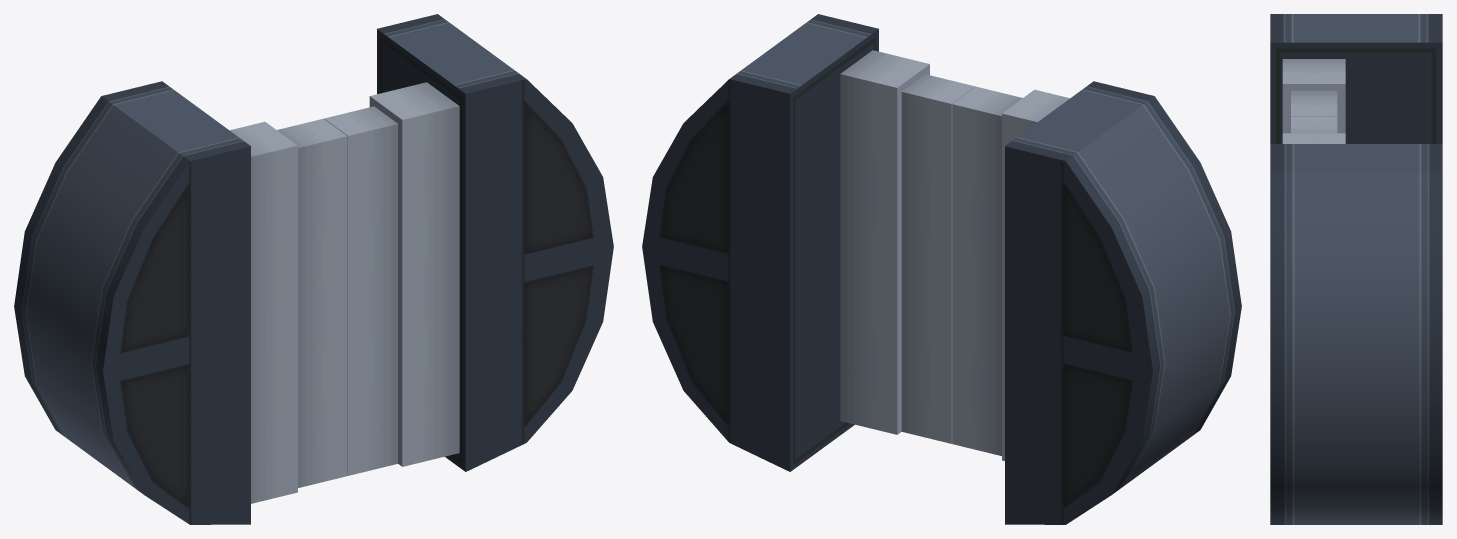
Rendered from Space_Door_Airlock.fbx.
The picture shows the model from 3 angles, left to right: view 1: azimuth 30°, elevation 25°; view 2: azimuth 150°, elevation 25°; view 3: azimuth 270°, elevation 25°; orthographic projection. The views are drawn at different scales.
Visible parts, largest first — view 1: Space_Door_Airlock, Door_1, Door_2, Door_3, Door_4; view 2: Space_Door_Airlock, Door_1, Door_2, Door_3, Door_4; view 3: Space_Door_Airlock, Door_4, Door_3, Door_2, Door_1.
Part boxes in pixels (<box>): Space_Door_Airlock: <box>14,14,613,524</box>; Door_1: <box>369,82,459,466</box>; Door_2: <box>324,106,397,475</box>; Door_3: <box>277,118,347,487</box>; Door_4: <box>230,121,297,503</box>; Space_Door_Airlock: <box>642,14,1241,524</box>; Door_1: <box>840,50,929,434</box>; Door_2: <box>901,74,975,443</box>; Door_3: <box>952,86,1022,455</box>; Door_4: <box>1002,89,1069,460</box>; Space_Door_Airlock: <box>1270,14,1442,524</box>; Door_4: <box>1282,59,1345,133</box>; Door_3: <box>1291,90,1337,116</box>; Door_2: <box>1291,116,1337,133</box>; Door_1: <box>1282,133,1345,143</box>.
Bounding box in the file's own units: 4.34 × 3.07 × 1.31.
Materials: 1 (1 with a texture image).
